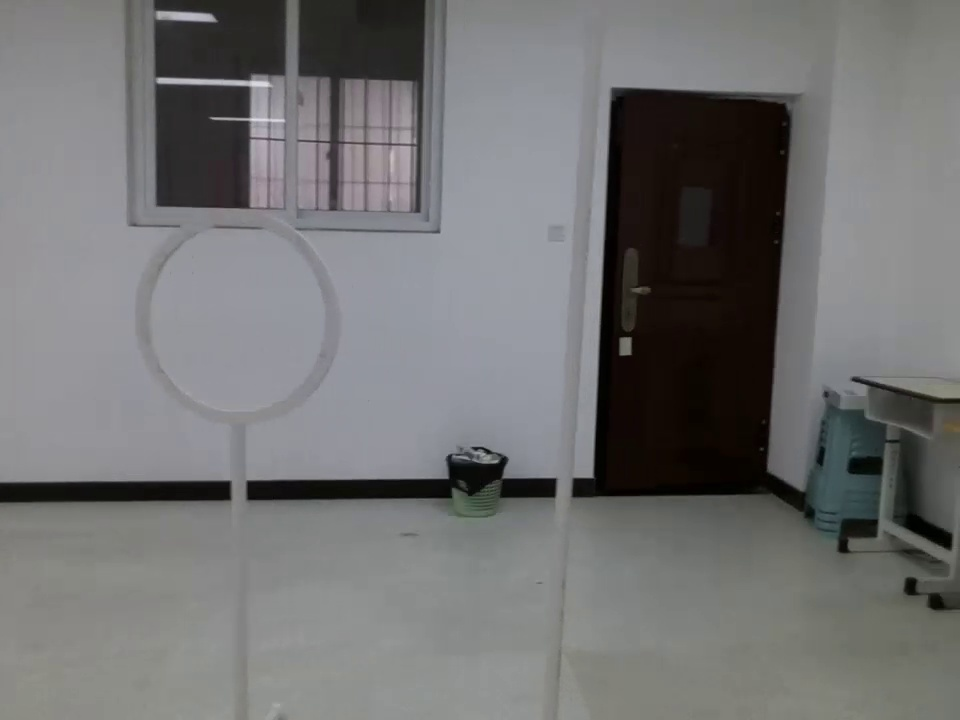gan: (523, 1, 606, 700)
quan: (129, 198, 352, 440)
